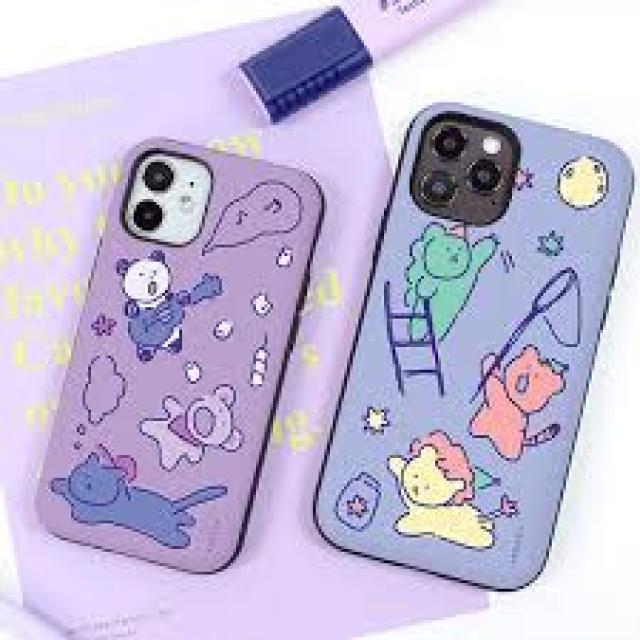Phone: (310, 92, 637, 593), (28, 132, 330, 576)
